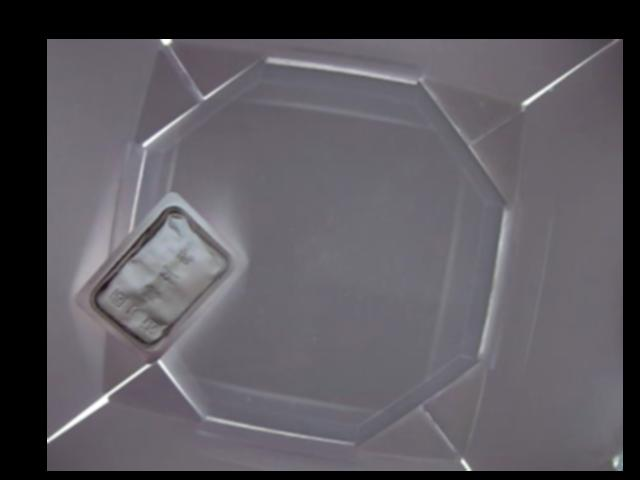Medicine: (76, 191, 246, 366)
